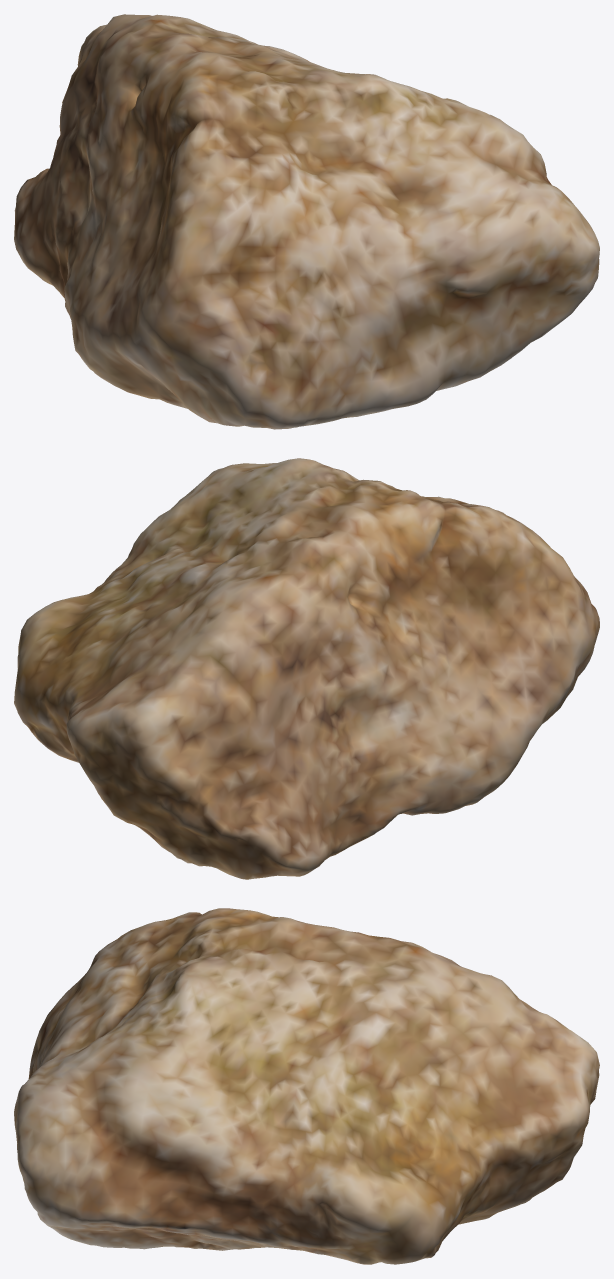
File: Rock_17.fbx
3 views of the same model, one above another, from view 1: azimuth 30°, elevation 25°; view 2: azimuth 150°, elevation 25°; view 3: azimuth 270°, elevation 25° (orthographic). The views are drawn at different scales.
Parts seen in each view (by area): view 1: Rock04; view 2: Rock04; view 3: Rock04.
Boxes of the visible parts, x1,y1,x2,y2 form: Rock04: (14, 14, 599, 429); Rock04: (14, 458, 599, 879); Rock04: (14, 908, 599, 1264).
Size of the model in its own units: 1917 by 1176 by 2310.
